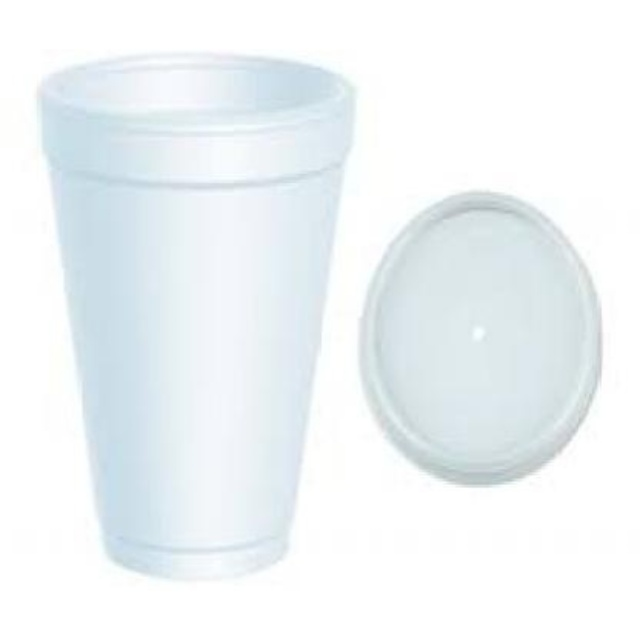trash: (42, 54, 352, 575), (362, 192, 598, 483)
